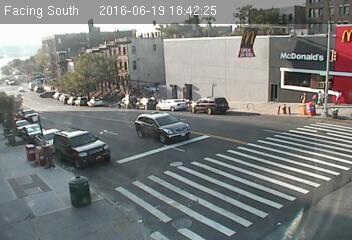neg: (166, 132, 187, 160), (124, 116, 141, 139), (274, 99, 291, 122), (296, 105, 309, 122), (303, 100, 315, 117), (329, 107, 339, 120)
pos: (311, 87, 328, 110), (331, 86, 347, 107), (297, 89, 312, 110)
